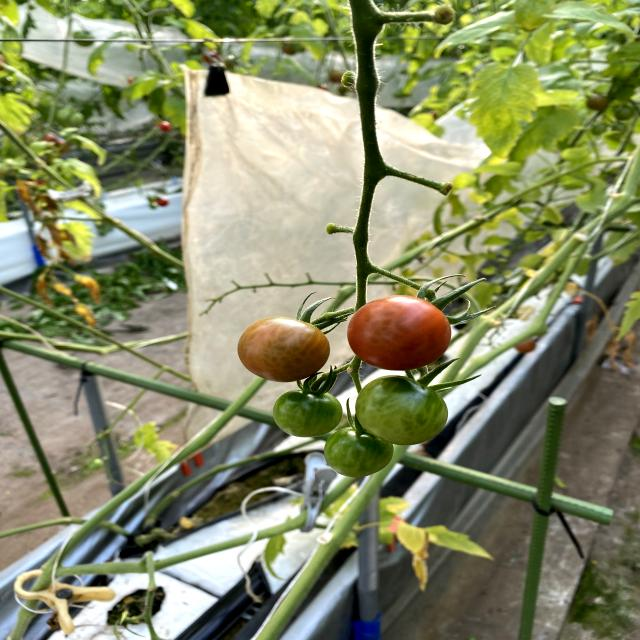ripe0: (355, 374, 449, 445), (273, 388, 342, 438), (324, 429, 393, 477)
ripe1: (238, 316, 329, 383)
ripe2: (349, 297, 450, 370)
